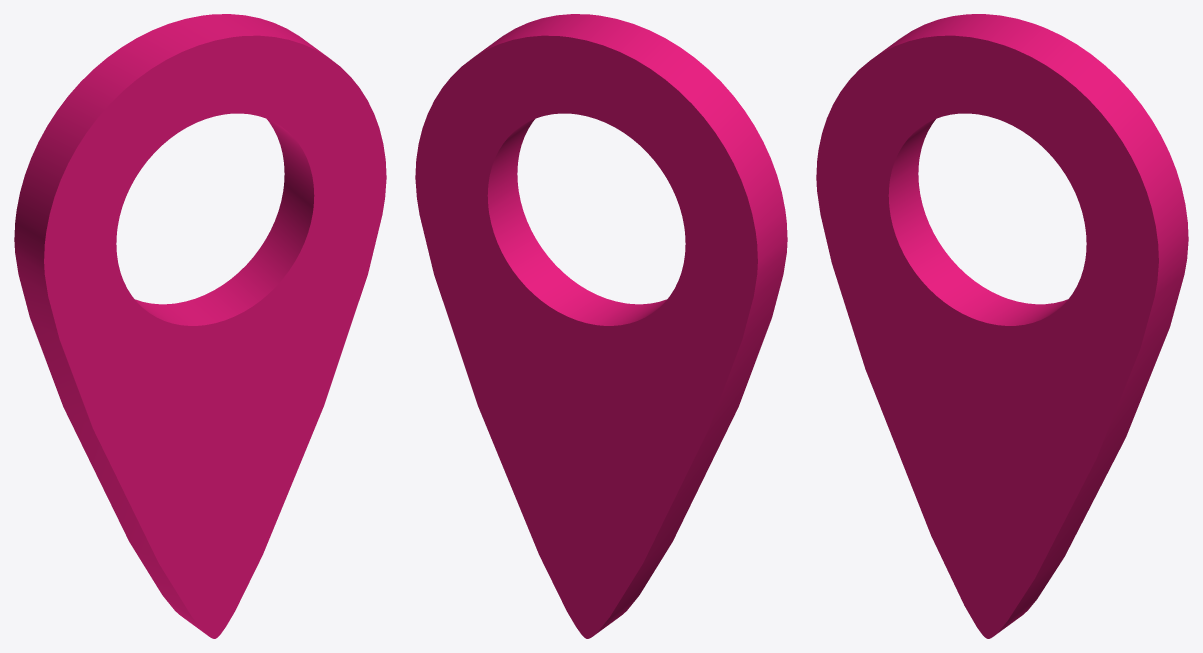
Rendered from geo-mark.fbx.
3 views of the same model, side by side, from view 1: azimuth 30°, elevation 25°; view 2: azimuth 150°, elevation 25°; view 3: azimuth 330°, elevation 25° (orthographic).
Parts seen in each view (by area): view 1: geo_mark; view 2: geo_mark; view 3: geo_mark.
Part boxes in pixels (x1=…): geo_mark: x1=14, y1=14, x2=386, y2=638; geo_mark: x1=415, y1=14, x2=787, y2=638; geo_mark: x1=816, y1=14, x2=1188, y2=638.
Bounding box in the file's own units: 107 × 179 × 16.1.
